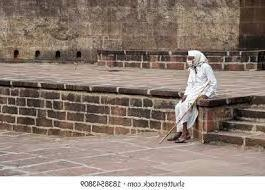Human: (167, 40, 217, 147)
